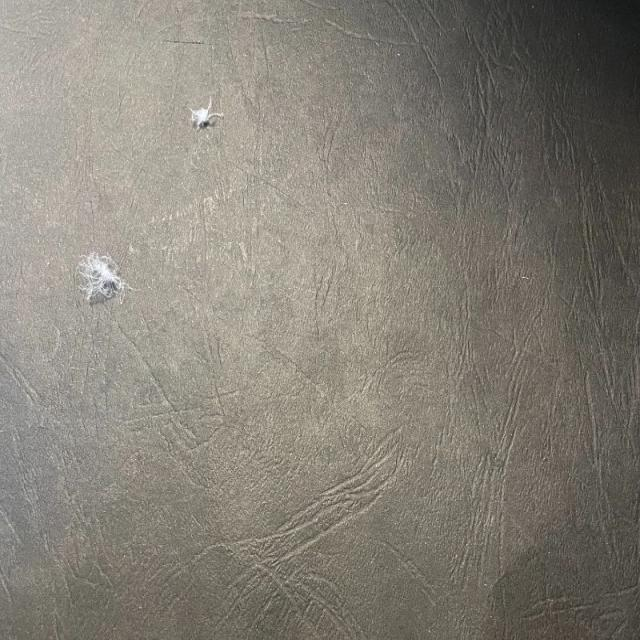feather: (68, 252, 132, 306), (185, 97, 222, 132)
